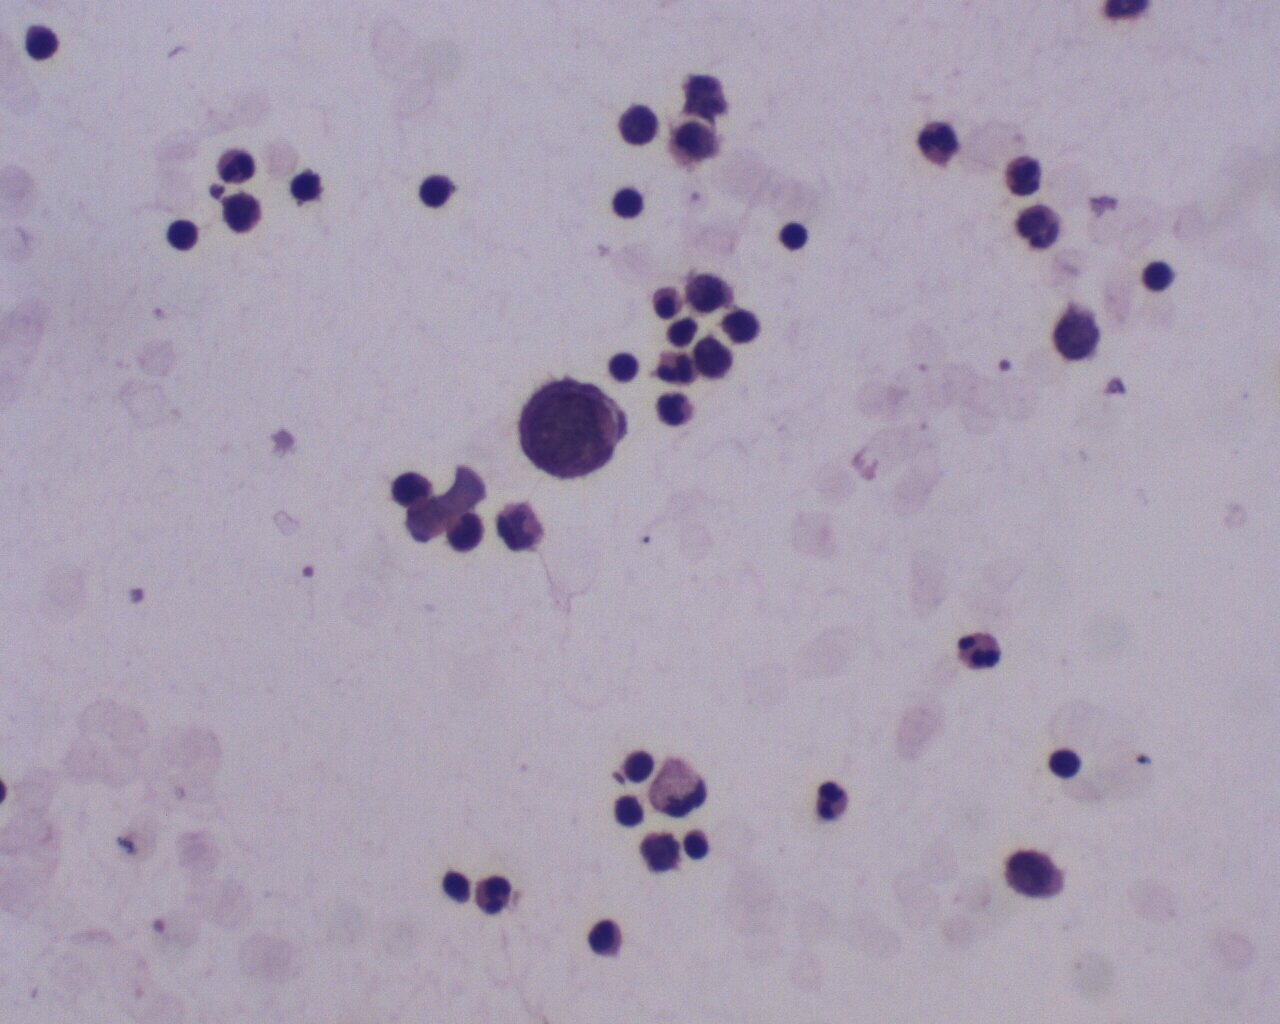ab: (517, 372, 628, 480)
lymph: (17, 19, 65, 66), (409, 173, 464, 214), (606, 184, 651, 224), (166, 217, 208, 257), (1043, 742, 1087, 779), (778, 215, 819, 254), (1140, 257, 1179, 294), (613, 792, 649, 832), (608, 345, 639, 388)
neutro: (910, 117, 961, 170), (955, 624, 1008, 674), (1016, 201, 1065, 252), (812, 776, 857, 828), (1004, 152, 1047, 199), (654, 344, 698, 389), (471, 874, 515, 918), (213, 148, 259, 185)
